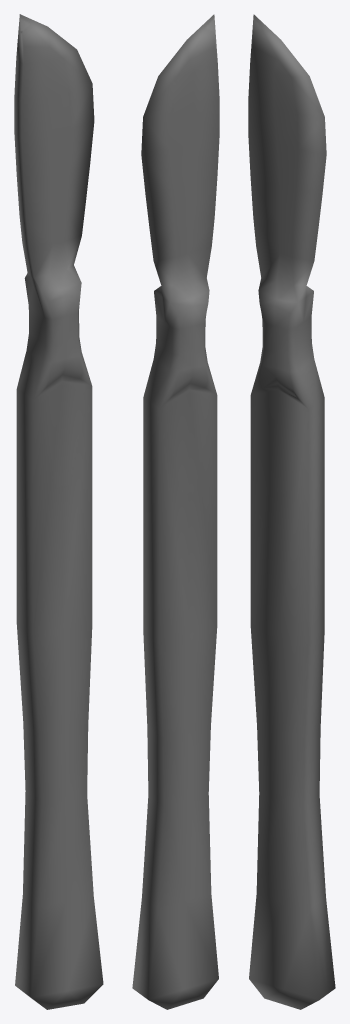
The model's file is sal1.fbx.
The picture shows the model from 3 angles, left to right: view 1: azimuth 30°, elevation 25°; view 2: azimuth 210°, elevation 25°; view 3: azimuth 330°, elevation 25°; orthographic projection. The views are drawn at different scales.
Visible parts, largest first — view 1: Plane.004; view 2: Plane.004; view 3: Plane.004.
Boxes of the visible parts, bbox=[...] form: Plane.004: bbox=[14, 14, 103, 1009]; Plane.004: bbox=[132, 14, 219, 1009]; Plane.004: bbox=[248, 14, 335, 1009].
Bounding box in the file's own units: 30.98 × 381 × 15.86.
Materials: 1 (1 with a texture image).
